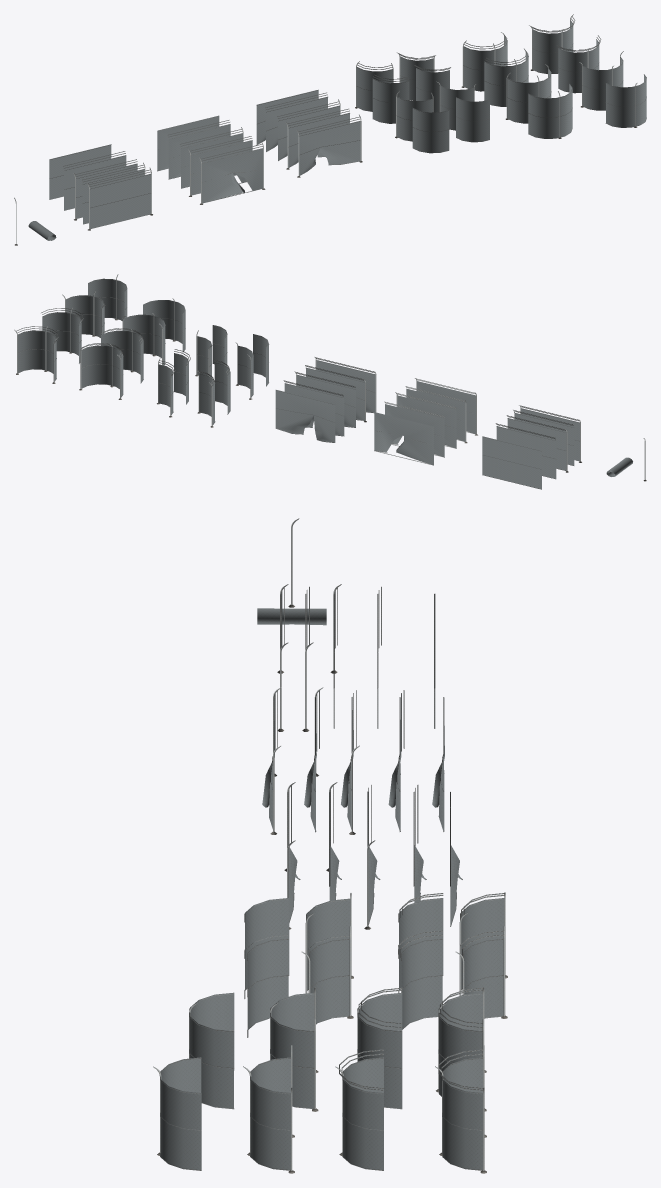
Rendered from chainlink_fence_without_proxy.obj.
3 renders of one model, top to bottom at view 1: azimuth 30°, elevation 25°; view 2: azimuth 150°, elevation 25°; view 3: azimuth 270°, elevation 25°, orthographic. The views are drawn at different scales.
Parts seen in each view (by area): view 1: chainlink_fence, chainlink_fence_damaged_b, chainlink_fence_damaged_a, chainlink_fence_inner_corner180_nocol_nowire, chainlink_fence_outer_corner180_nocol_nowire, chainlink_fence_inner_corner90_nocol_nowire, chainlink_fence_outer_corner180, chainlink_fence_inner_corner180, chainlink_fence_inner_corner180_nocol, chainlink_fence_outer_corner180_nocol, chainlink_fence_outer_corner90_nocol_nowire, chainlink_fence_inner_corner180_nowire (+19 smaller); view 2: chainlink_fence_no_columns_no_wire, chainlink_fence_damaged_a_no_columns_no_wire, chainlink_fence_damaged_b_no_columns_no_wire, chainlink_fence_inner_corner180, chainlink_fence_outer_corner180, chainlink_fence_outer_corner180_nocol, chainlink_fence_no_columns, chainlink_fence_inner_corner180_nocol, chainlink_fence_inner_corner180_nowire, chainlink_fence_outer_corner180_nowire, chainlink_fence_damaged_b_leftcol_only, chainlink_fence_outer_corner180_nocol_nowire (+19 smaller); view 3: chainlink_fence_outer_corner180, chainlink_fence_outer_corner180_nocol, chainlink_fence_outer_corner180_nowire, chainlink_fence_outer_corner180_nocol_nowire, chainlink_fence_inner_corner180_nocol_nowire, chainlink_fence_inner_corner180_nowire, chainlink_fence_inner_corner180_nocol, chainlink_fence_outer_corner90_nocol, chainlink_fence_inner_corner180, chainlink_fence_outer_corner90_nowire, chainlink_fence_outer_corner90, chainlink_fence_outer_corner90_nocol_nowire (+5 smaller).
Boxes of the visible parts, x1,y1,x2,y2 form: chainlink_fence: (87,167,152,230); chainlink_fence_damaged_b: (199,142,265,204); chainlink_fence_damaged_a: (297,114,362,177); chainlink_fence_inner_corner180_nocol_nowire: (528,84,572,138); chainlink_fence_outer_corner180_nocol_nowire: (605,74,646,127); chainlink_fence_inner_corner90_nocol_nowire: (412,108,449,153); chainlink_fence_outer_corner180: (529,14,575,73); chainlink_fence_inner_corner180: (461,32,507,91); chainlink_fence_inner_corner180_nocol: (484,48,528,106); chainlink_fence_outer_corner180_nocol: (556,35,601,93); chainlink_fence_outer_corner90_nocol_nowire: (456,97,489,142); chainlink_fence_inner_corner180_nowire: (505,64,551,123); chainlink_fence_no_columns_no_wire: (482,436,541,489); chainlink_fence_damaged_a_no_columns_no_wire: (275,390,335,442); chainlink_fence_damaged_b_no_columns_no_wire: (374,412,433,465); chainlink_fence_inner_corner180: (79,343,123,399); chainlink_fence_outer_corner180: (14,326,58,383); chainlink_fence_outer_corner180_nocol: (41,307,83,363); chainlink_fence_no_columns: (495,423,556,479); chainlink_fence_inner_corner180_nocol: (101,328,143,383); chainlink_fence_inner_corner180_nowire: (122,313,165,365); chainlink_fence_outer_corner180_nowire: (62,290,104,337); chainlink_fence_damaged_b_leftcol_only: (395,392,456,448); chainlink_fence_outer_corner180_nocol_nowire: (88,274,127,320); chainlink_fence_outer_corner180: (435,1045,486,1173); chainlink_fence_outer_corner180_nocol: (335,1049,383,1170); chainlink_fence_outer_corner180_nowire: (243,1045,294,1173); chainlink_fence_outer_corner180_nocol_nowire: (153,1057,201,1170); chainlink_fence_inner_corner180_nocol_nowire: (189,992,234,1109); chainlink_fence_inner_corner180_nowire: (270,987,318,1111); chainlink_fence_inner_corner180_nocol: (357,987,402,1109); chainlink_fence_outer_corner90_nocol: (398,930,442,1029); chainlink_fence_inner_corner180: (436,987,486,1111); chainlink_fence_outer_corner90_nowire: (302,926,353,1024); chainlink_fence_outer_corner90: (456,926,507,1018); chainlink_fence_outer_corner90_nocol_nowire: (247,938,288,1037).
Bounding box in the file's own units: 3935 × 285 × 1036.
